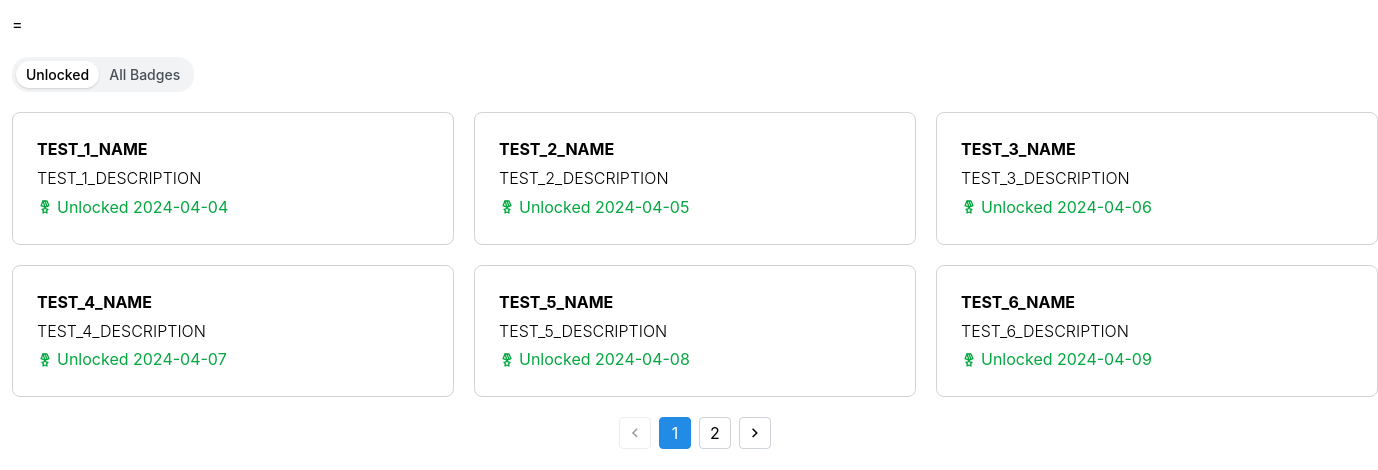
Test: BadgeCollection › renders all with pages and unlocked with timestamps
Click the radio button labelled "All Badges": (145, 74) x1=109 y1=66 x2=180 y2=83
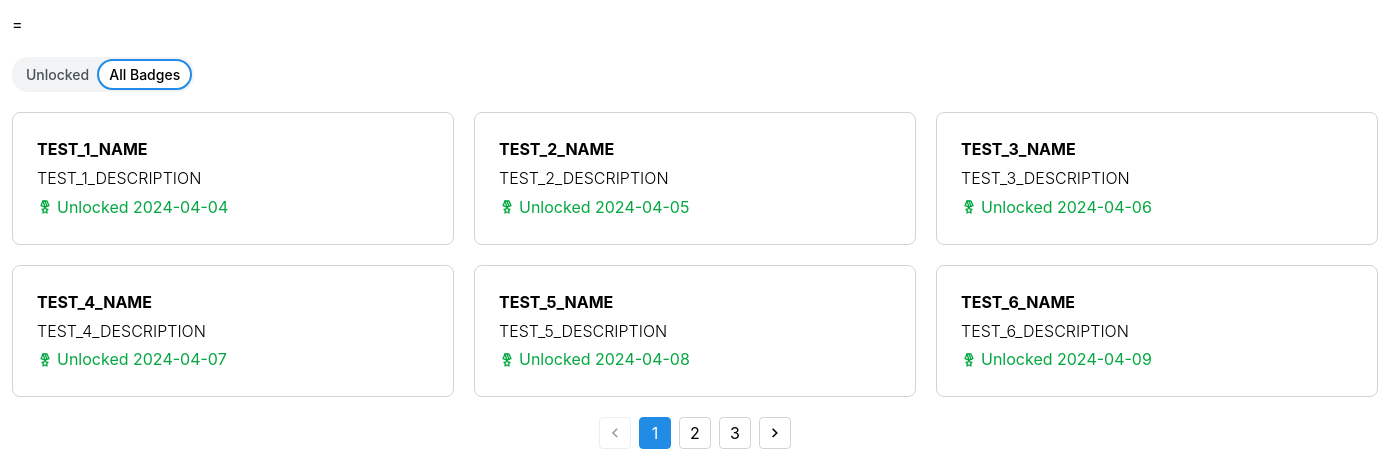
Expected: the text "TEST_1_NAME" is shown, x1=37 y1=140 x2=148 y2=160
Expected: the text "TEST_1_DESCRIPTION" is shown, x1=37 y1=168 x2=201 y2=188
Click the button "2": (695, 433) x1=679 y1=417 x2=711 y2=449
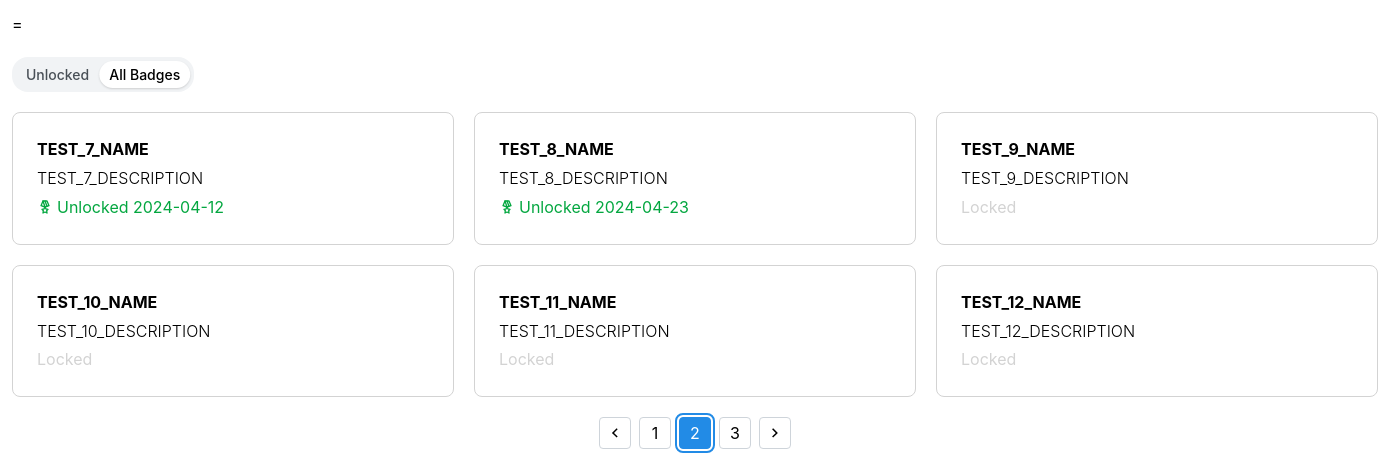
Expected: the text "TEST_9_NAME" is shown, x1=961 y1=140 x2=1075 y2=160
Expected: the text "TEST_9_DESCRIPTION" is shown, x1=961 y1=168 x2=1129 y2=188
Expected: the text "TEST_10_NAME" is shown, x1=37 y1=292 x2=157 y2=312
Click the button "3": (735, 433) x1=719 y1=417 x2=751 y2=449
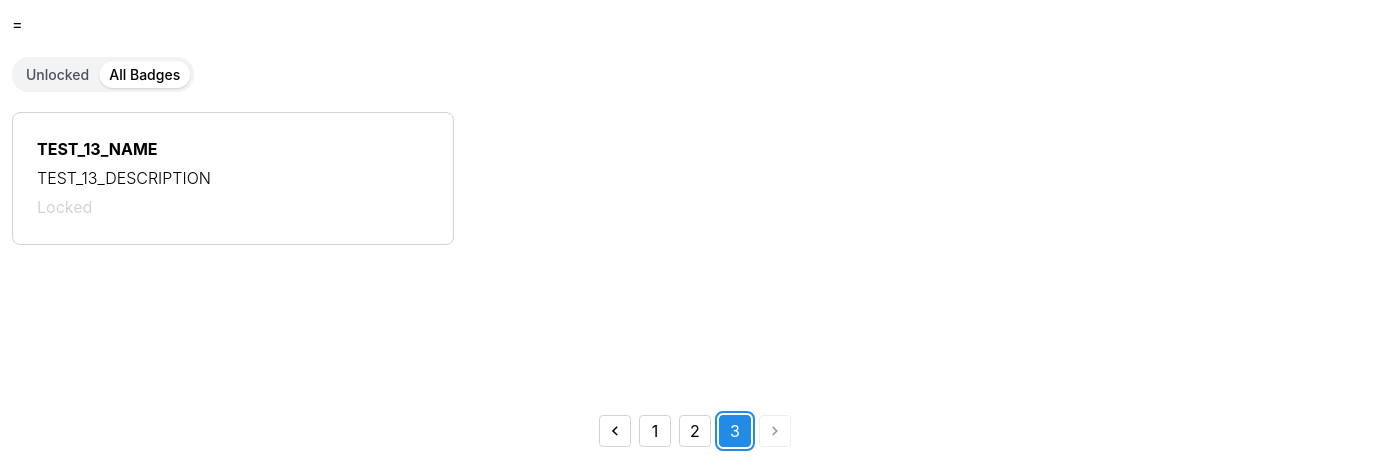
Expected: the text "Locked" is shown, x1=37 y1=197 x2=92 y2=217
Expected: the text "TEST_13_NAME" is shown, x1=37 y1=140 x2=158 y2=160
Expected: the text "TEST_13_DESCRIPTION" is shown, x1=37 y1=168 x2=211 y2=188
